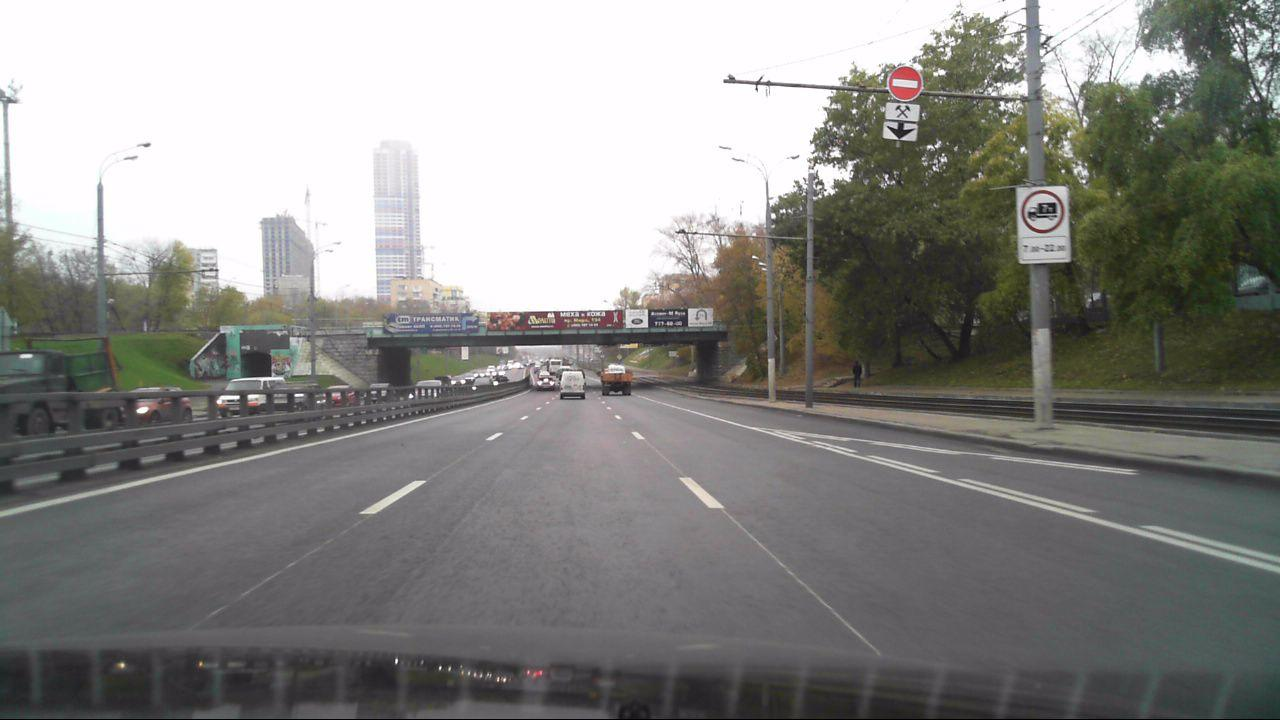3_1: (887, 65, 922, 101)
3_4: (1021, 191, 1063, 233)
8_14: (882, 120, 917, 143)
8_5_2: (887, 102, 922, 122)
8_5_4: (1020, 237, 1069, 261)
